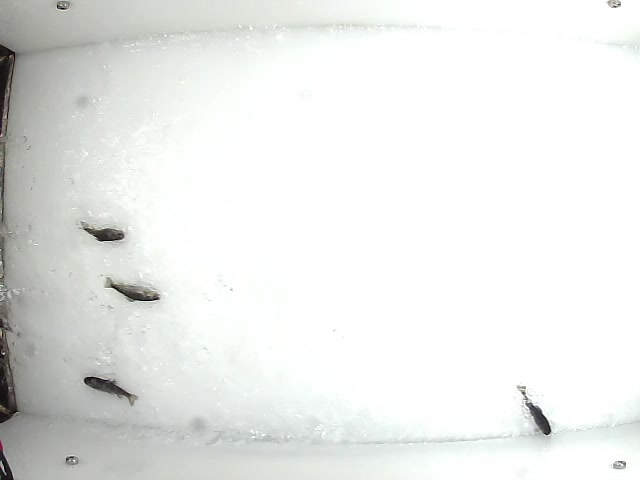fish: (515, 382, 556, 440), (81, 375, 140, 409), (102, 275, 164, 303), (77, 221, 127, 244)
